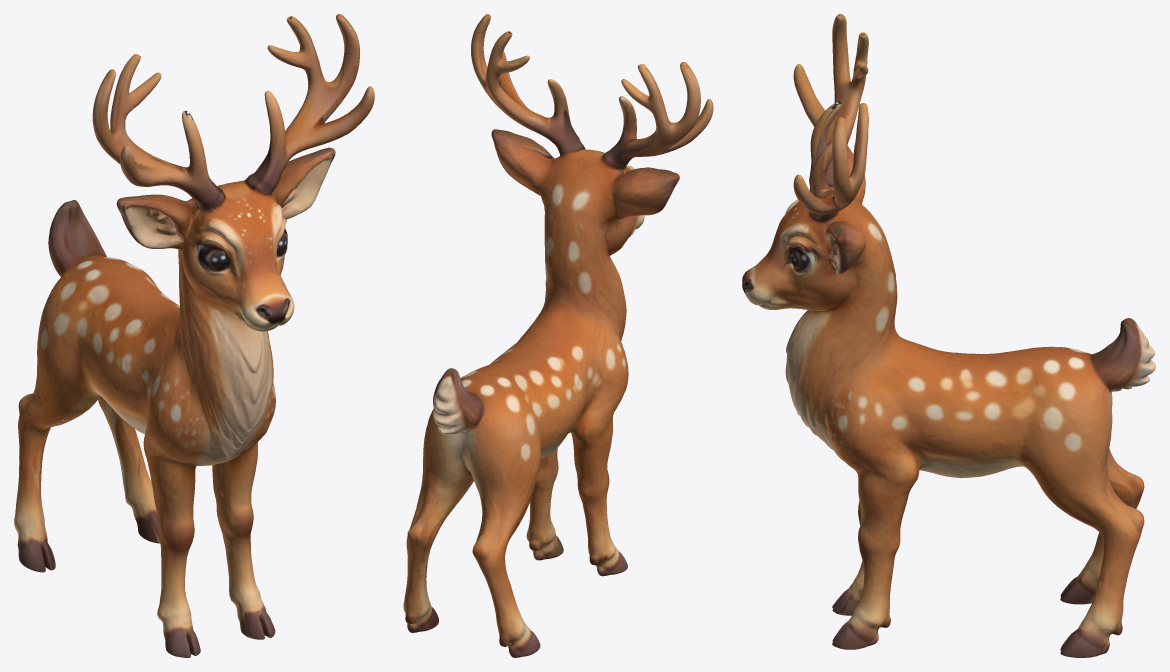
The model's file is reindeer.glb.
3 views of the same model, side by side, from view 1: azimuth 30°, elevation 25°; view 2: azimuth 150°, elevation 25°; view 3: azimuth 270°, elevation 25° (orthographic). The views are drawn at different scales.
Bounding box in the file's own units: 0.8757 × 1.9 × 1.27.
1 material, 1 textured.
